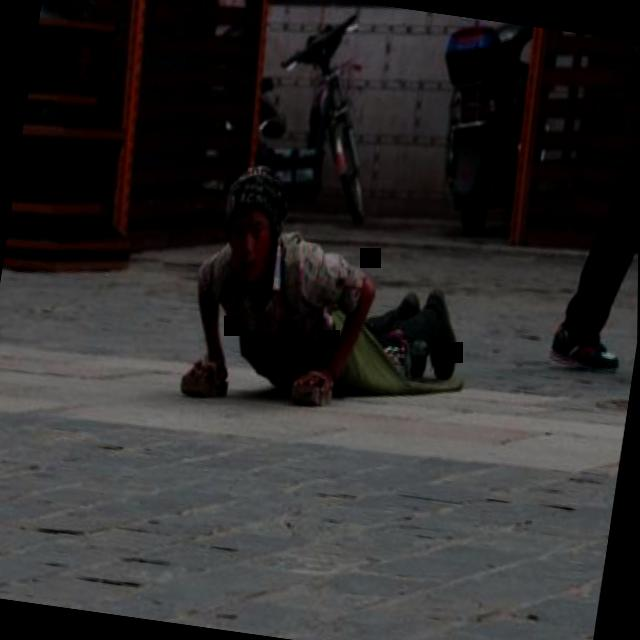Fall-Detected: (162, 144, 506, 436)
